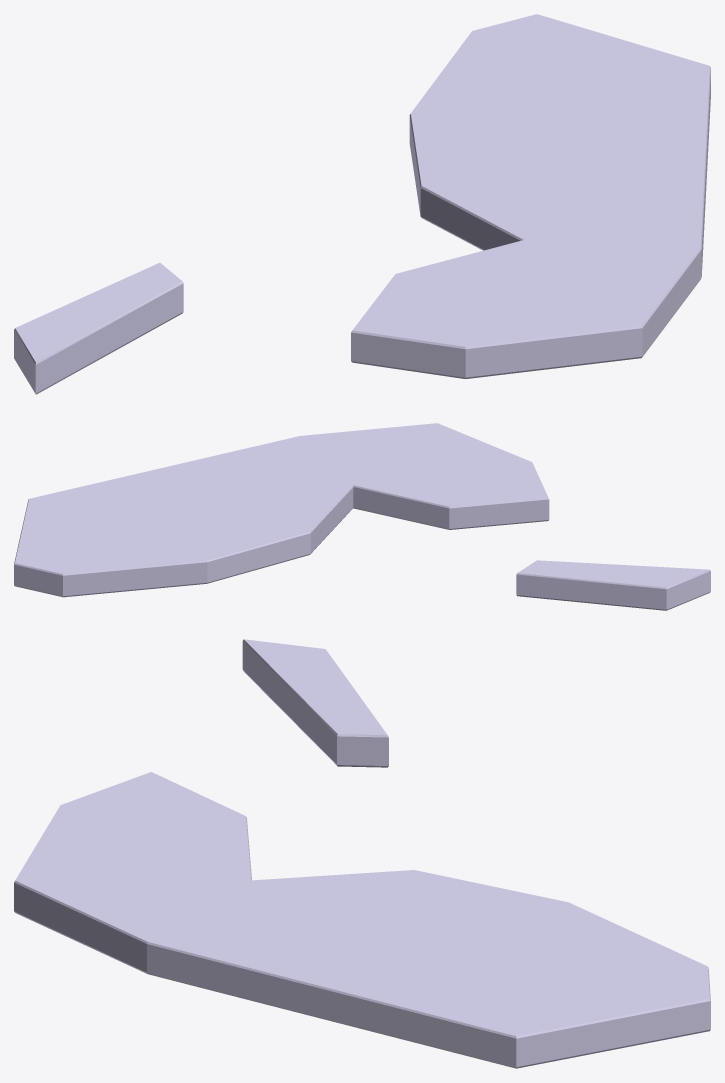
The model's file is PSX.glb.
The picture shows the model from 3 angles, top to bottom: view 1: azimuth 30°, elevation 25°; view 2: azimuth 150°, elevation 25°; view 3: azimuth 270°, elevation 25°; orthographic projection. The views are drawn at different scales.
Bounding box in the file's own units: 1.79 × 0.068 × 1.33.
